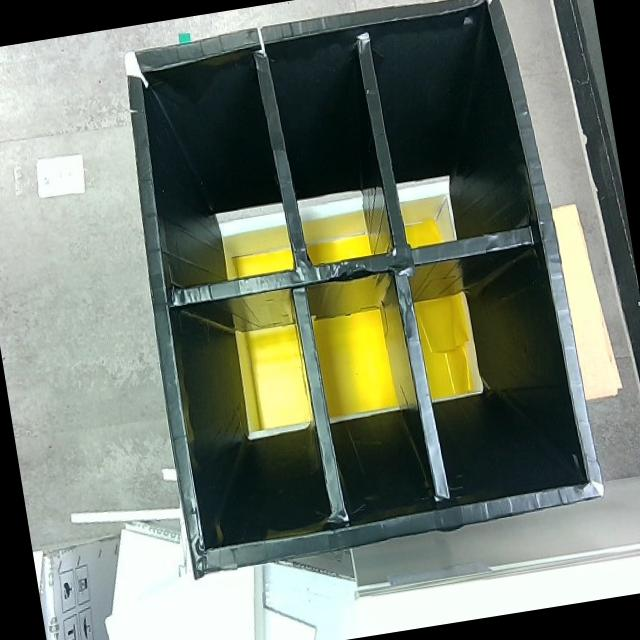box: (108, 0, 607, 578)
